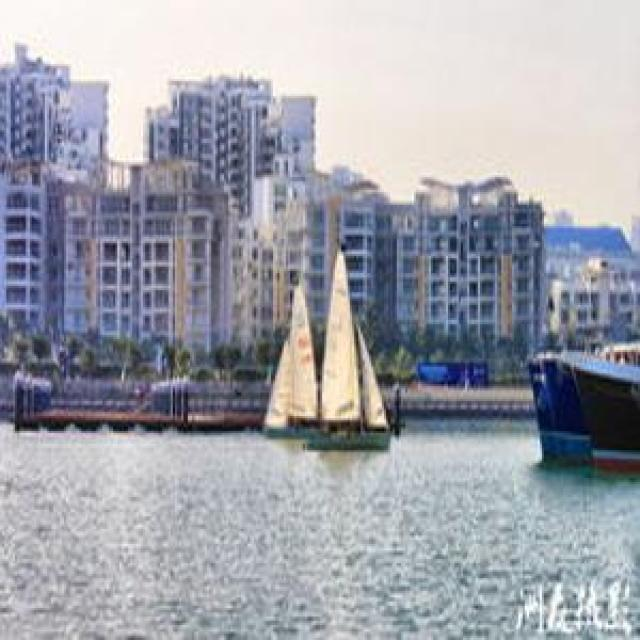sailboat: (311, 238, 393, 452), (260, 270, 318, 442)
